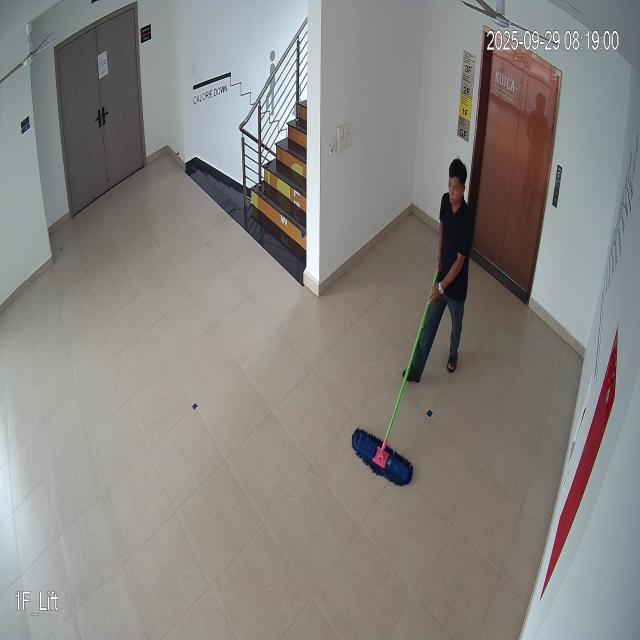face: (444, 159, 466, 208)
